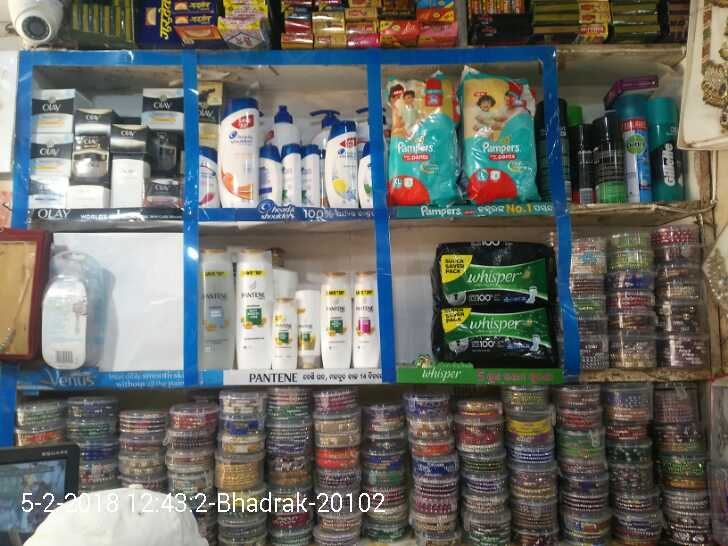gillete: (649, 100, 680, 198), (596, 119, 625, 203), (571, 124, 593, 202)
venus: (43, 252, 99, 367)
